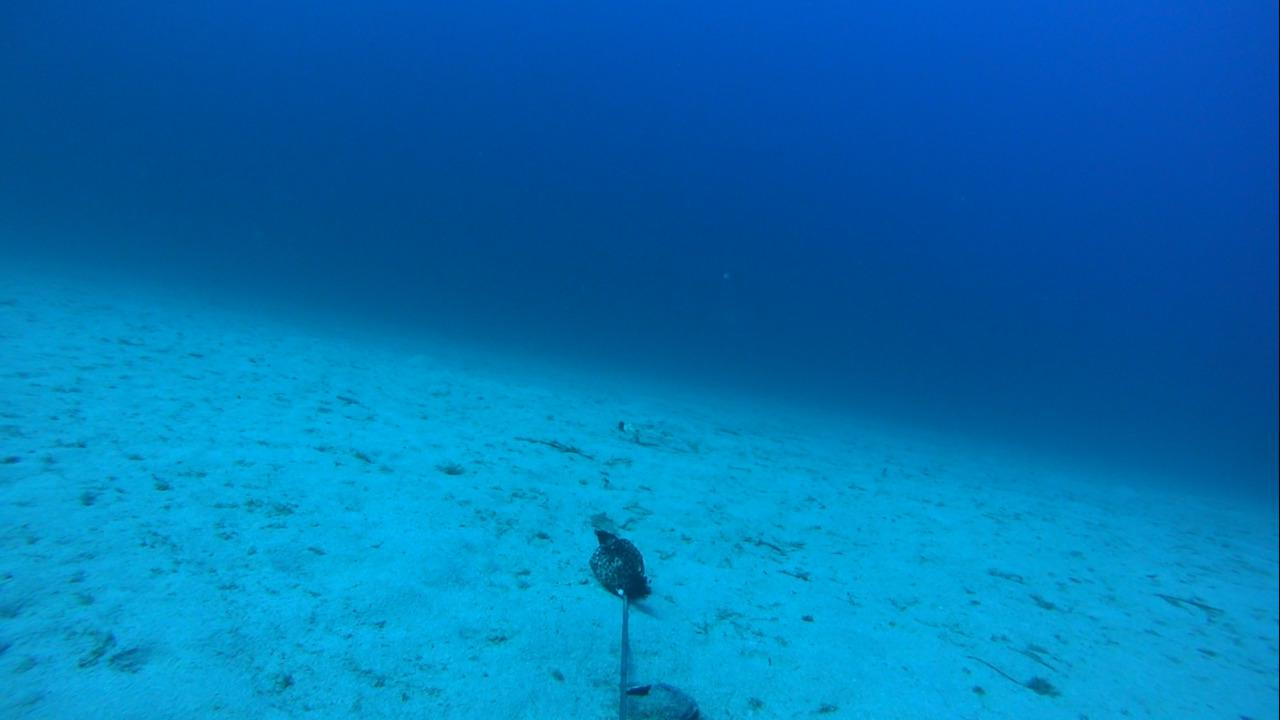dactylopterus: (597, 416, 708, 453)
